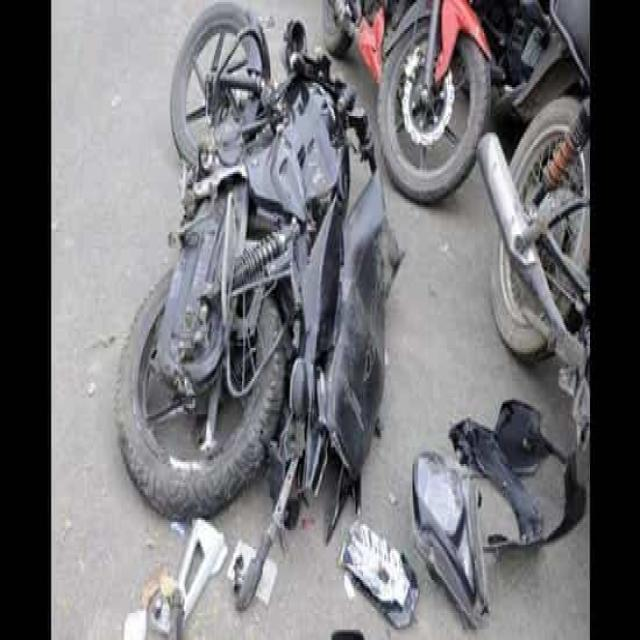accident: (115, 4, 401, 606)
